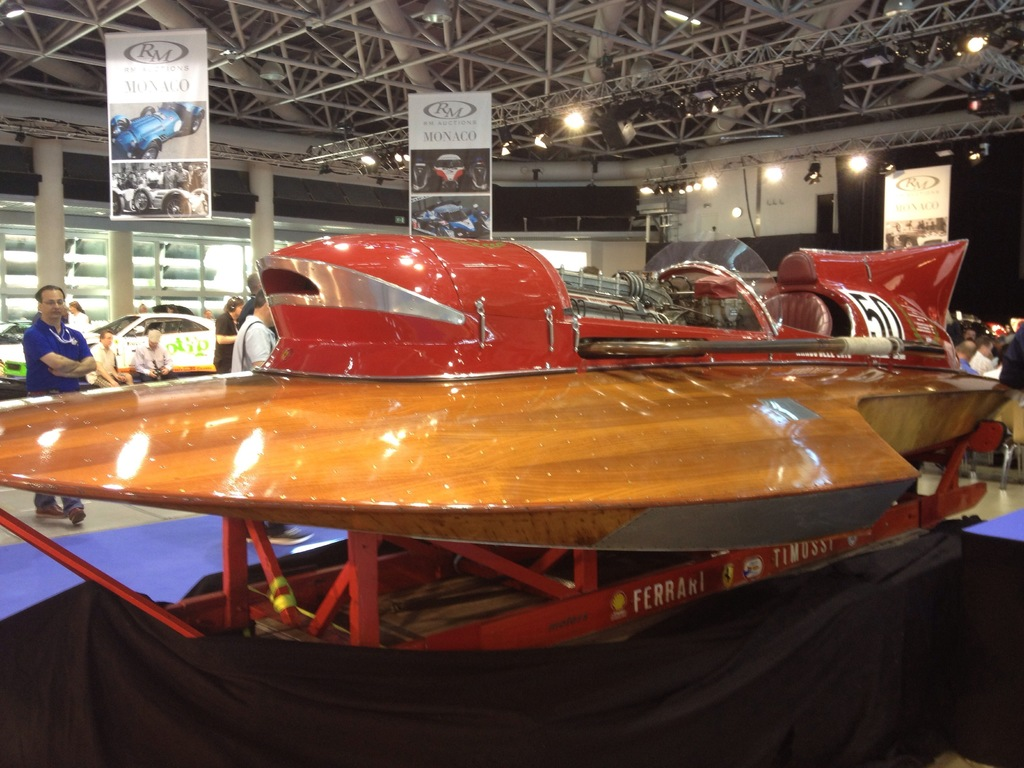cars: (90, 308, 217, 377), (113, 103, 209, 160), (114, 178, 216, 216), (416, 153, 490, 198), (415, 197, 491, 232), (0, 319, 34, 397)
